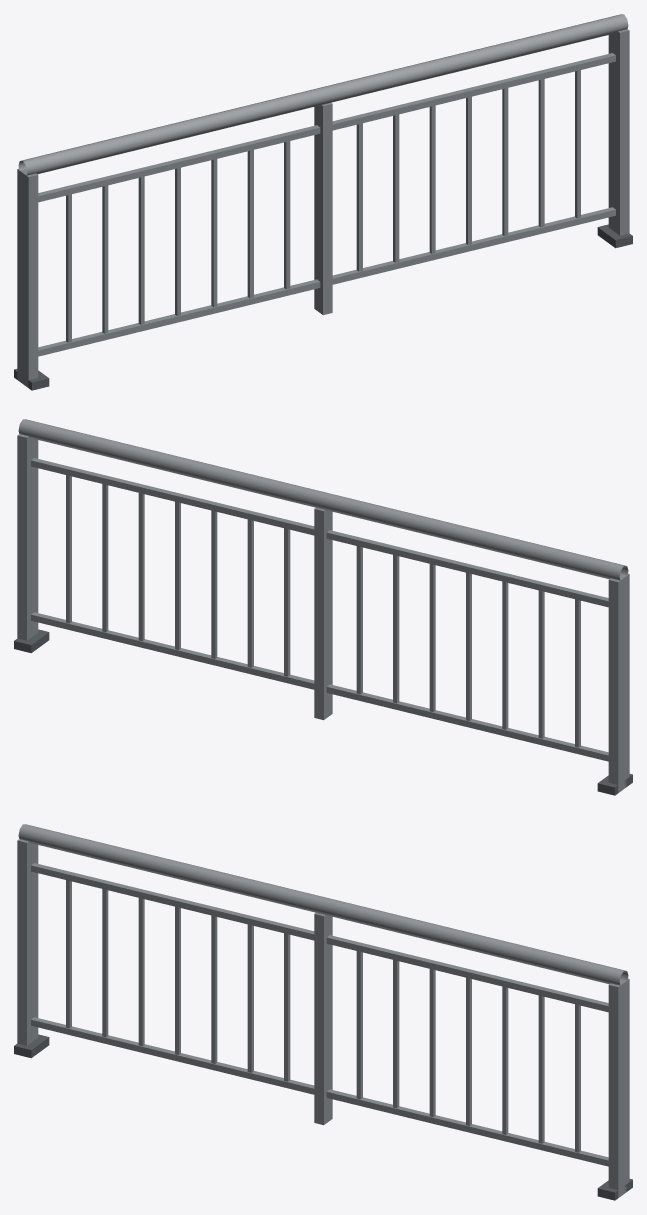
File: tokyo_waterfront_rail.glb
3 views of the same model, one above another, from view 1: azimuth 30°, elevation 25°; view 2: azimuth 150°, elevation 25°; view 3: azimuth 330°, elevation 25° (orthographic).
Parts seen in each view (by area): view 1: tokyo_waterfront_rail; view 2: tokyo_waterfront_rail; view 3: tokyo_waterfront_rail.
Part boxes in pixels (bbox=[...]): tokyo_waterfront_rail: bbox=[14, 14, 632, 390]; tokyo_waterfront_rail: bbox=[14, 419, 632, 795]; tokyo_waterfront_rail: bbox=[14, 824, 632, 1200].
Bounding box in the file's own units: 3.1 × 1.1 × 0.16.
Materials: 1 (1 with a texture image).
